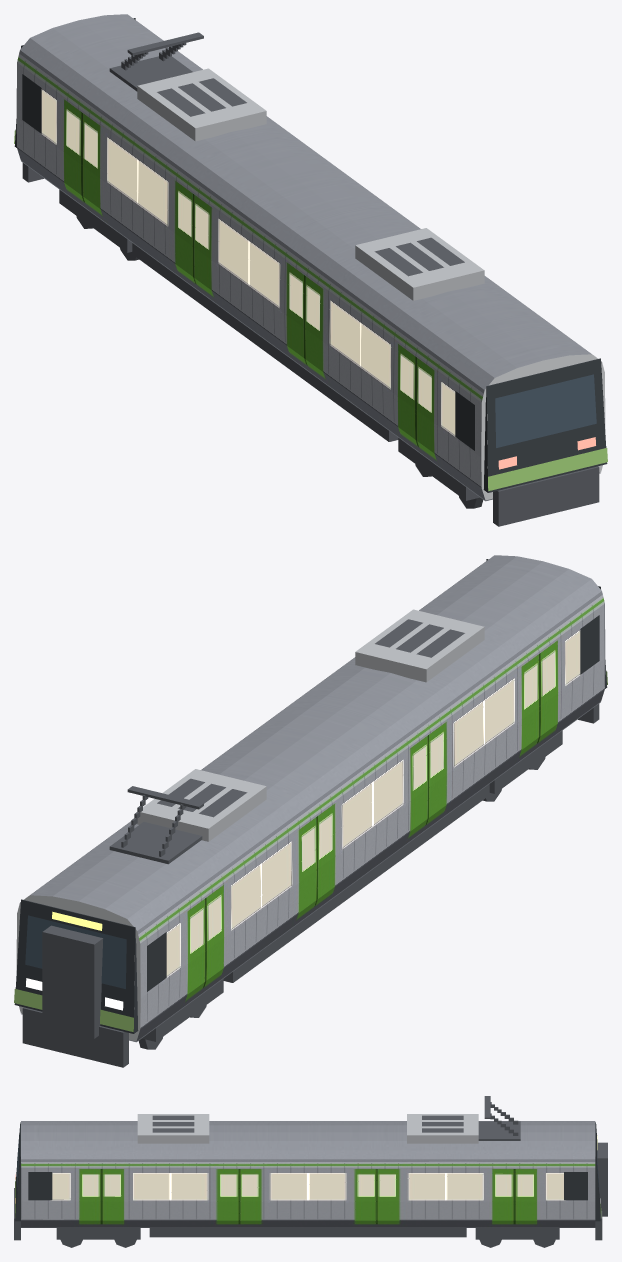
The model's file is yamanote_train.glb.
The picture shows the model from 3 angles, top to bottom: view 1: azimuth 30°, elevation 25°; view 2: azimuth 150°, elevation 25°; view 3: azimuth 270°, elevation 25°; orthographic projection. The views are drawn at different scales.
Visible parts, largest first — view 1: TR_Lead, TR_Tail, TR_Panto; view 2: TR_Lead, TR_Middle, TR_Panto, TR_Tail; view 3: TR_Lead, TR_Tail, TR_Panto, TR_Middle.
Boxes of the visible parts, bbox=[...] form: TR_Lead: bbox=[14, 14, 605, 508]; TR_Tail: bbox=[455, 358, 607, 526]; TR_Panto: bbox=[109, 32, 203, 91]; TR_Lead: bbox=[14, 555, 605, 1067]; TR_Middle: bbox=[16, 895, 140, 1041]; TR_Panto: bbox=[109, 786, 203, 864]; TR_Tail: bbox=[486, 559, 607, 723]; TR_Lead: bbox=[21, 1114, 602, 1247]; TR_Tail: bbox=[14, 1122, 52, 1240]; TR_Panto: bbox=[478, 1096, 520, 1140]; TR_Middle: bbox=[597, 1142, 607, 1216].
Size of the model in its own units: 2.98 by 4.81 by 19.85.
10 materials, 1 textured.
